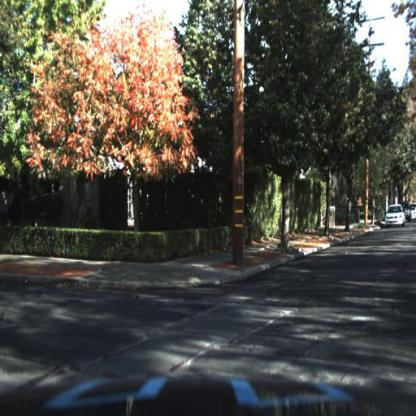car: (386, 205, 407, 229), (397, 202, 412, 223), (405, 208, 416, 221)
